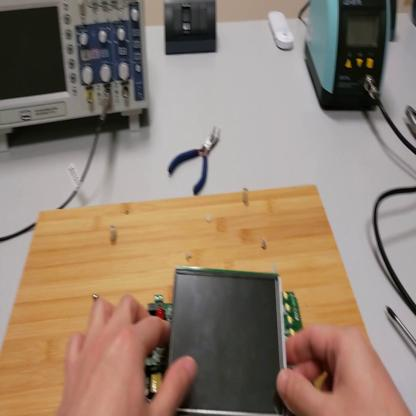hand: (61, 291, 197, 414), (277, 321, 408, 416)
low voltage board: (144, 263, 303, 411)
oscilloscope: (3, 2, 150, 151)
pliers: (167, 128, 221, 199), (405, 108, 415, 140)
screwdriver-: (387, 303, 416, 350)
socket: (388, 1, 397, 42)
welder station: (306, 3, 390, 111)
working area: (3, 182, 374, 414)
